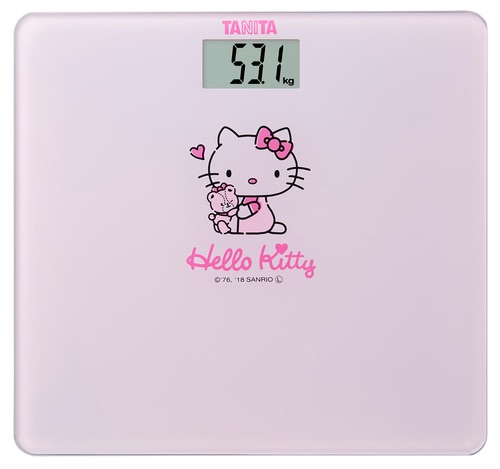LCD: (201, 38, 302, 90)
